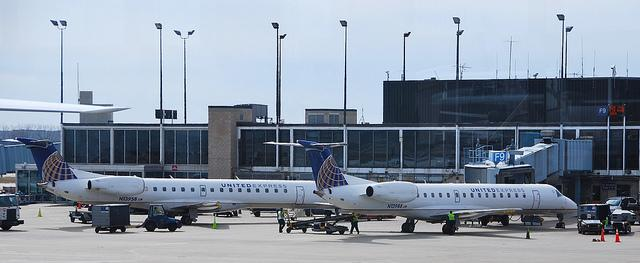airplane: (1, 135, 339, 226), (263, 138, 580, 234)
